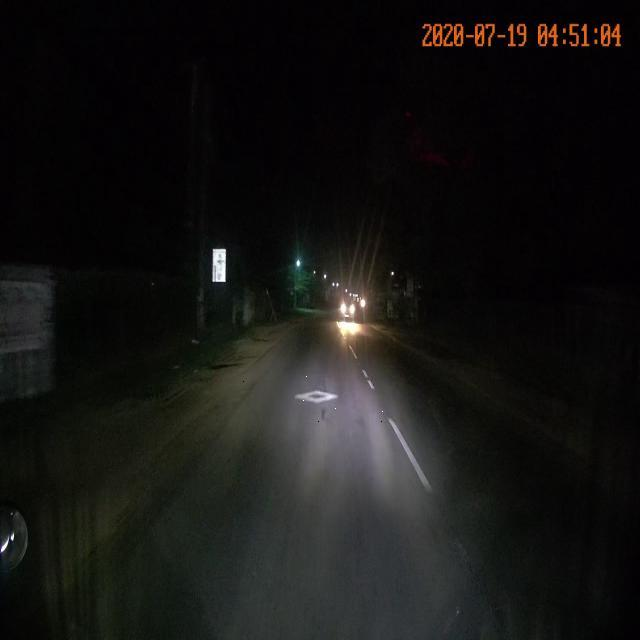diamond: (223, 374, 397, 423)
